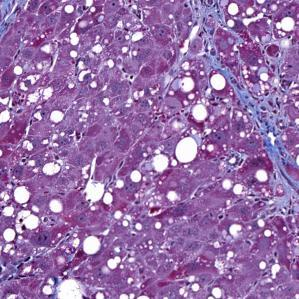fibrosis: (214, 49, 286, 142)
